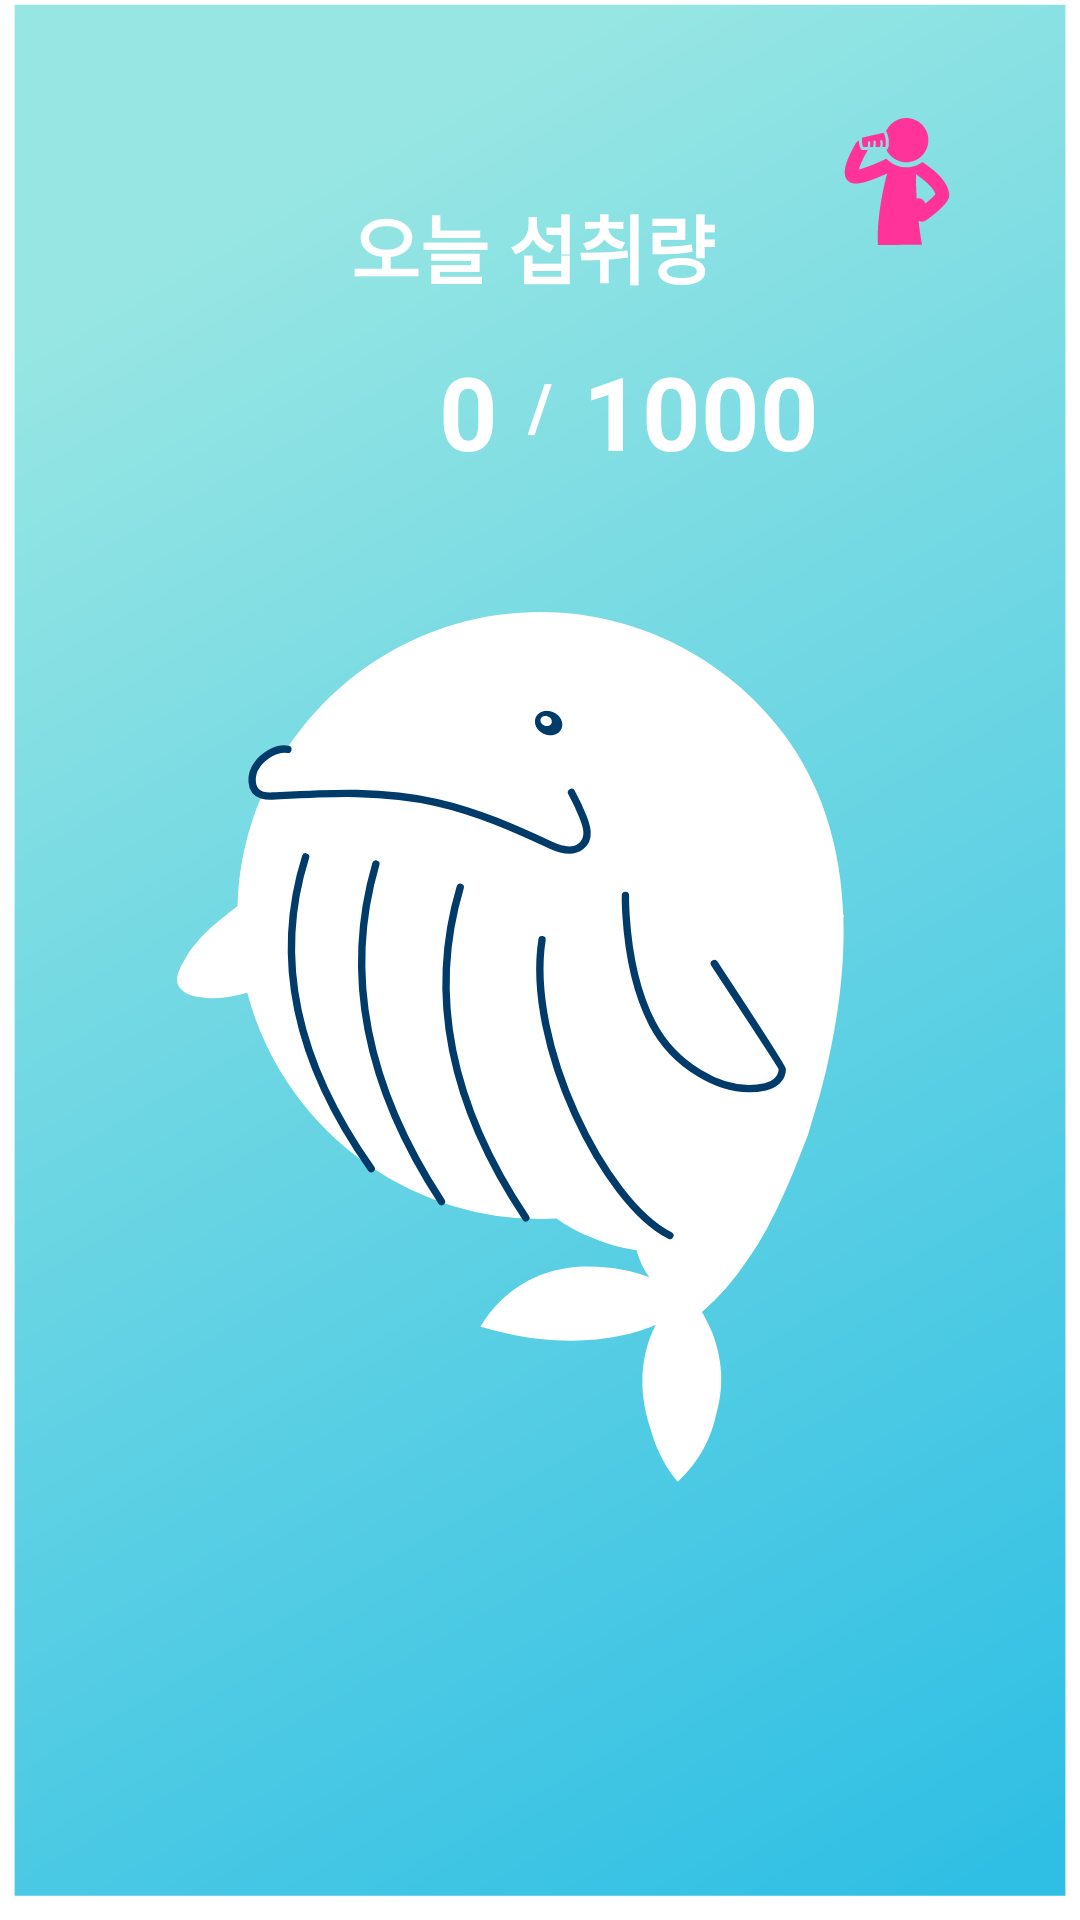

Screen size 1080px×1920px. Icon name, then its box in pixels as [left=x1, top=y1, right=x2, bottom=y2]:
intake: [left=844, top=118, right=950, bottom=245]
